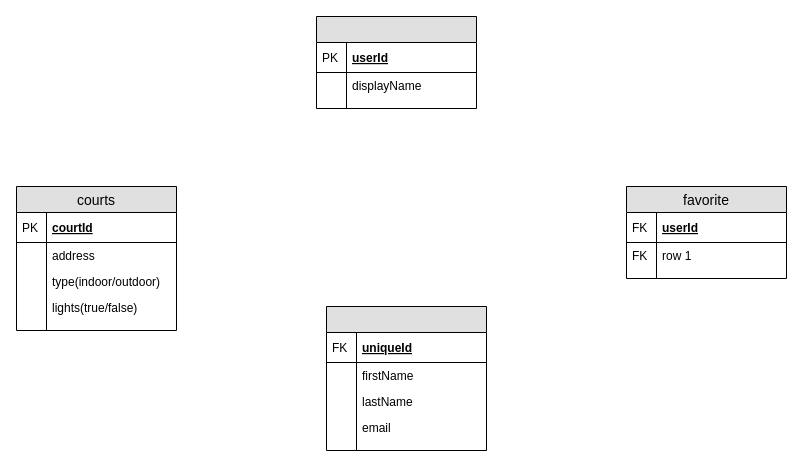
Image size: 803x467. Some labels were removed from this diagram. The box of each missing label's shape, as (x1, y1, x2, y2) in pixels:
userInformation: (326, 306, 486, 450)
users: (316, 16, 476, 108)
